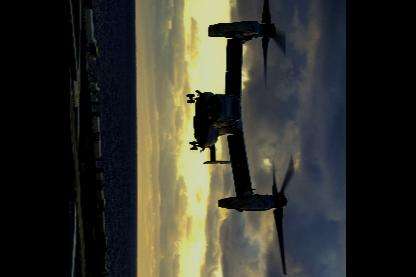Tornado: (187, 0, 296, 276)
